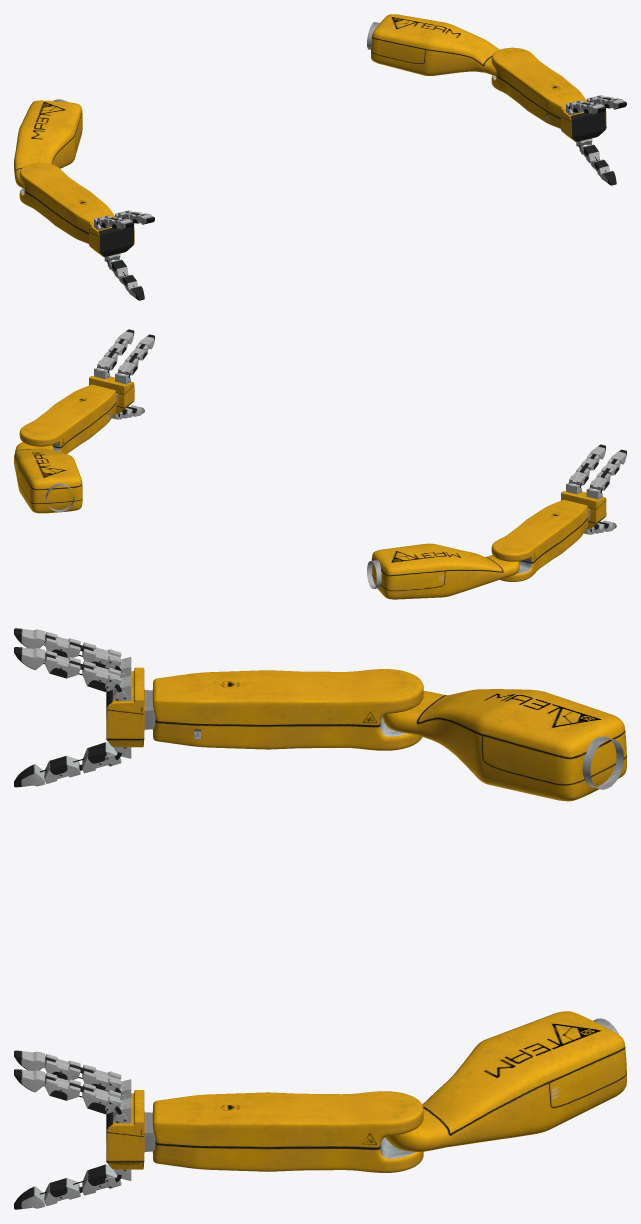
The model's file is Arms V2.fbx.
3 views of the same model, one above another, from view 1: azimuth 30°, elevation 25°; view 2: azimuth 150°, elevation 25°; view 3: azimuth 270°, elevation 25° (orthographic). The views are drawn at different scales.
Parts seen in each view (by area): view 1: Boven_arm (×2), Onder_arm, Onder_arm1, Hand_base (×2); view 2: Boven_arm (×2), Onder_arm1, Onder_arm, Hand_base (×2); view 3: Boven_arm (×2), Onder_arm, Onder_arm1, Hand_base (×2), End (×4), Arm_l1.
Part boxes in pixels (x1,y1,x2,y2): Boven_arm (×2): (14, 14, 499, 188); Onder_arm: (491, 47, 586, 128); Onder_arm1: (19, 163, 114, 243); Hand_base (×2): (89, 107, 606, 257); Boven_arm (×2): (14, 442, 519, 599); Onder_arm1: (491, 500, 588, 581); Onder_arm: (19, 384, 116, 453); Hand_base (×2): (89, 376, 606, 528); Boven_arm (×2): (383, 689, 626, 1151); Onder_arm: (152, 1091, 423, 1172); Onder_arm1: (152, 669, 423, 750); Hand_base (×2): (106, 667, 155, 1169); End (×4): (73, 661, 121, 1195); Arm_l1: (582, 736, 623, 789).
Bounding box in the file's own units: 755 × 112 × 429.
